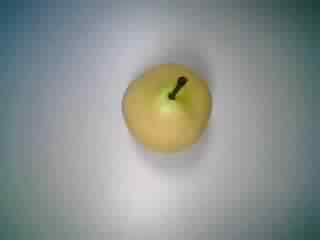pear: (109, 59, 219, 165)
